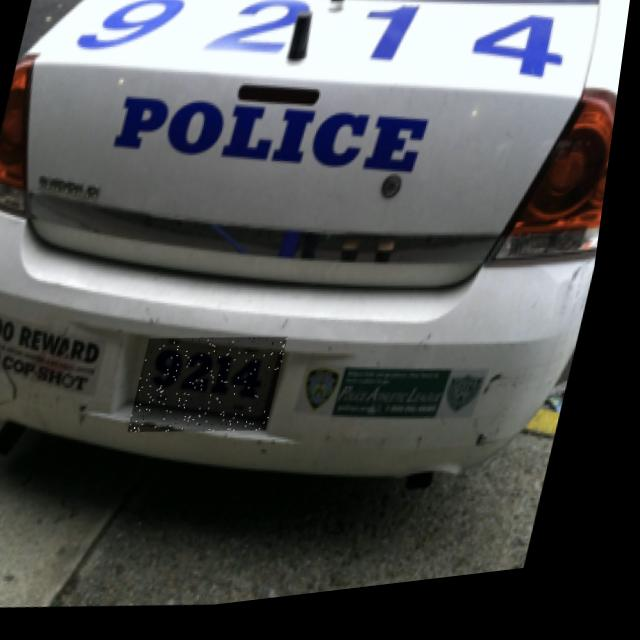license_plate: (138, 330, 300, 451)
